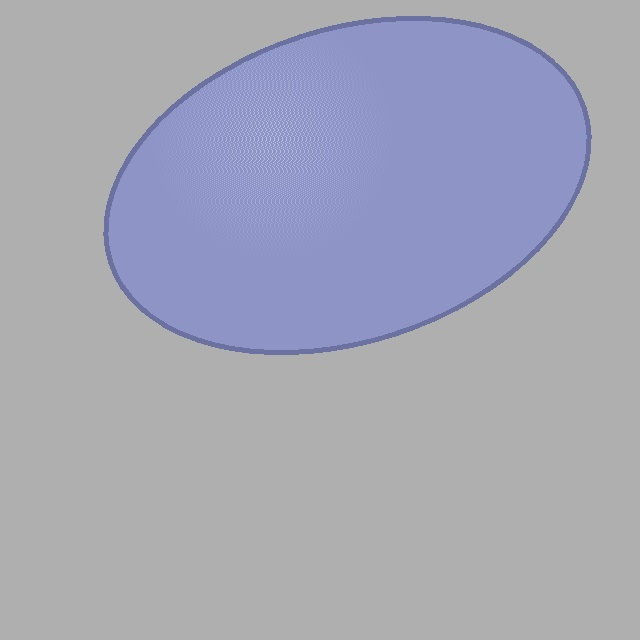lens: (106, 18, 588, 352)
